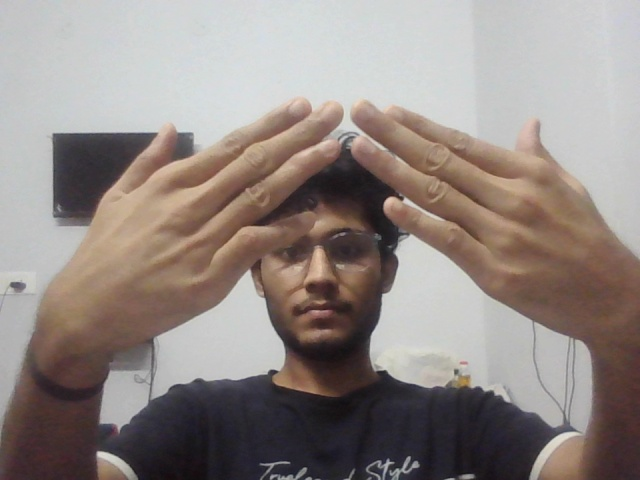Thanks: (22, 63, 640, 356)
